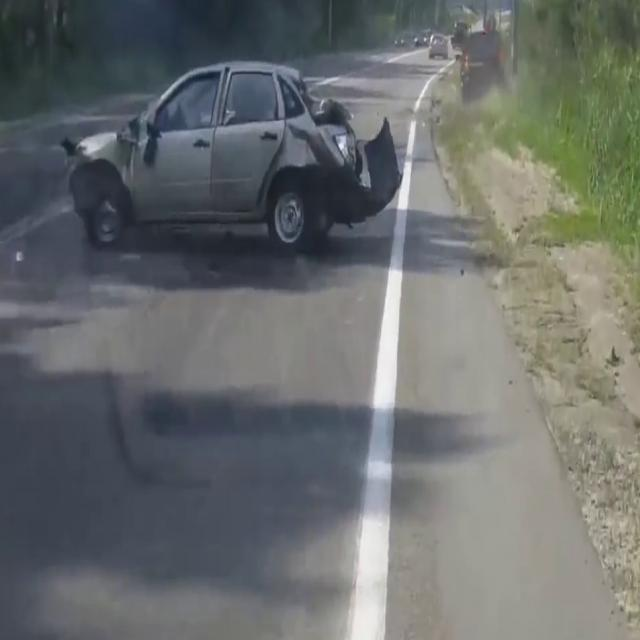accident: (55, 42, 397, 264)
